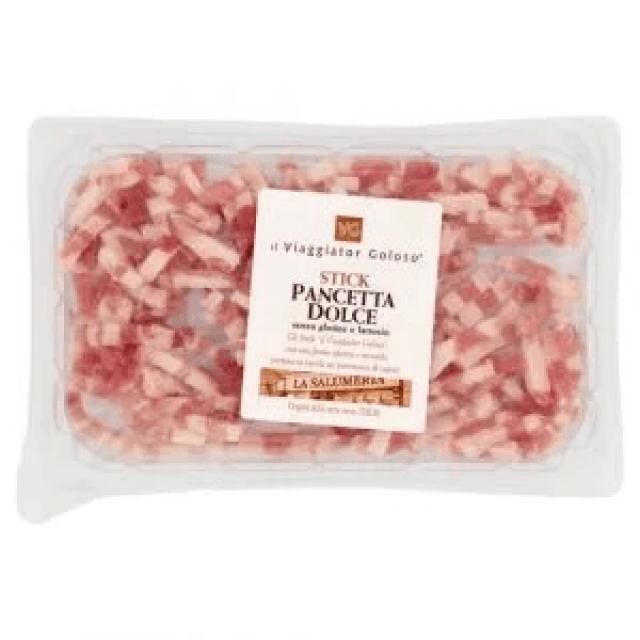Ham: (19, 117, 625, 527)
